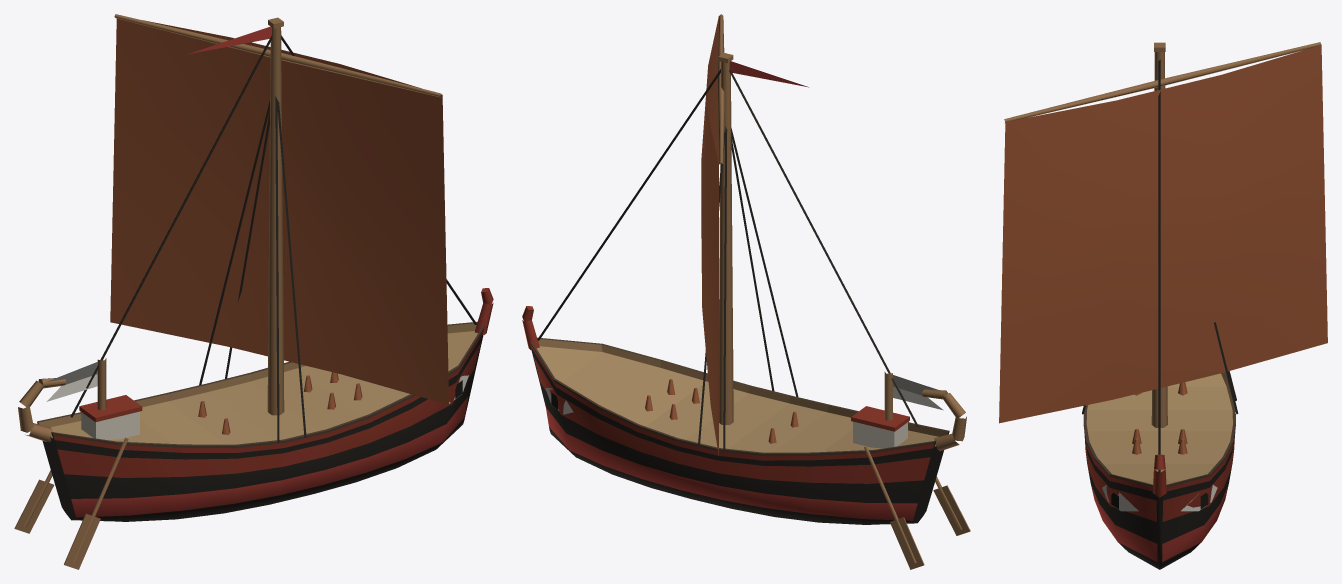
File: hull_eur_greek_medium.glb
3 renders of one model, left to right at view 1: azimuth 30°, elevation 25°; view 2: azimuth 150°, elevation 25°; view 3: azimuth 270°, elevation 25°, orthographic. The views are drawn at different scales.
Visible parts, largest first — view 1: sail_main, hull, mast, deck, rigging, yards, flag; view 2: hull, sail_main, rigging, mast, deck, flag, yards; view 3: sail_main, hull, yards, rigging, mast, deck.
Boxes of the visible parts, box(x1,y1,x2,y2) form: sail_main: box(110, 18, 448, 404); hull: box(18, 288, 493, 521); mast: box(97, 17, 284, 415); deck: box(14, 372, 362, 569); rigging: box(70, 35, 476, 442); yards: box(114, 14, 441, 97); flag: box(46, 26, 271, 401); hull: box(522, 306, 966, 524); sail_main: box(701, 16, 718, 455); rigging: box(537, 69, 918, 450); mast: box(718, 53, 892, 424); deck: box(645, 379, 970, 569); flag: box(729, 61, 943, 410); yards: box(717, 14, 724, 164); sail_main: box(999, 45, 1327, 423); hull: box(1083, 372, 1235, 569); yards: box(1004, 42, 1321, 122); rigging: box(1082, 59, 1238, 472); mast: box(1151, 42, 1167, 427); deck: box(1132, 382, 1187, 454).
Size of the model in its own units: 14.02 by 13.45 by 8.66.
